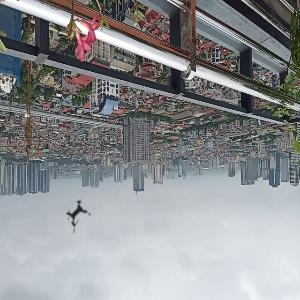drone: (50, 187, 107, 244)
